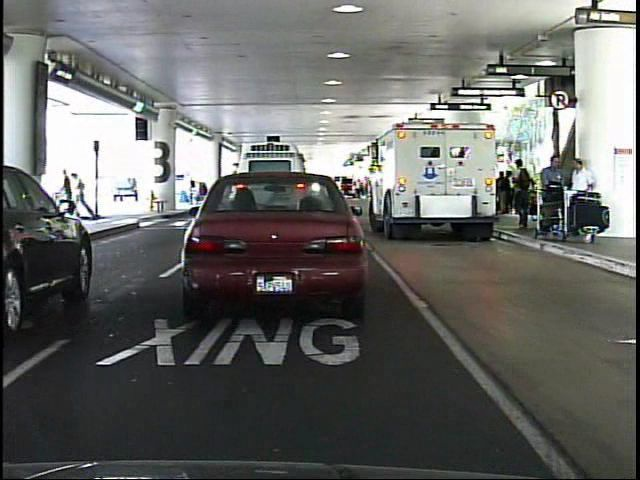person: (69, 167, 90, 221), (57, 168, 77, 224)
